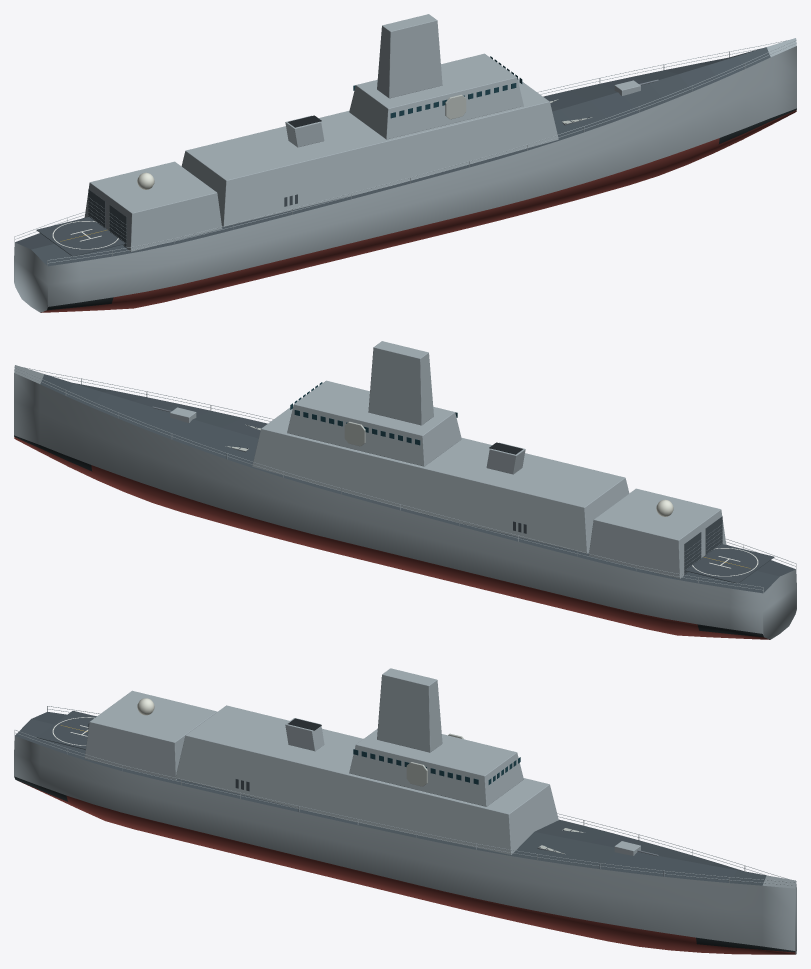
File: fra_ffg_fremm.glb
The picture shows the model from 3 angles, top to bottom: view 1: azimuth 30°, elevation 25°; view 2: azimuth 150°, elevation 25°; view 3: azimuth 330°, elevation 25°; orthographic projection.
Visible parts, largest first — view 1: fra_ffg_fremm; view 2: fra_ffg_fremm; view 3: fra_ffg_fremm.
Part boxes in pixels (x1=…): fra_ffg_fremm: x1=14, y1=14, x2=796, y2=312; fra_ffg_fremm: x1=14, y1=341, x2=796, y2=639; fra_ffg_fremm: x1=14, y1=668, x2=796, y2=954.
Bounding box in the file's own units: 10 × 2.59 × 1.25.
